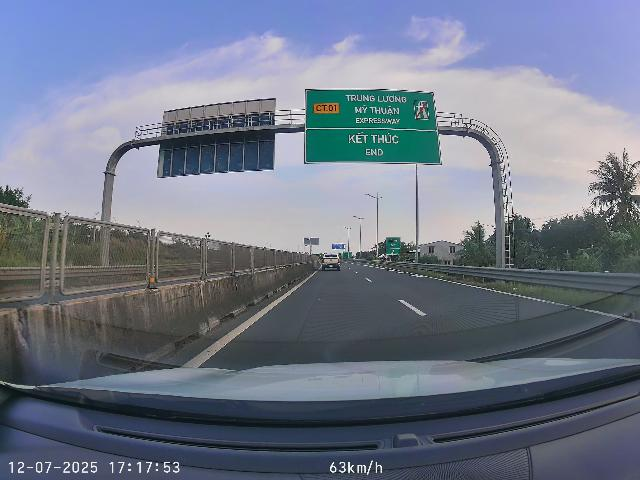438-ket-thuc-duong-cao-toc: (413, 100, 429, 121)
